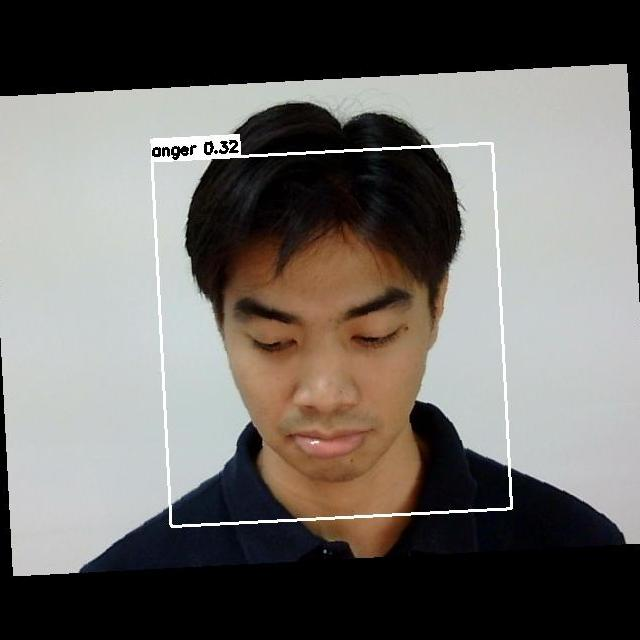Sad: (224, 236, 448, 485)
